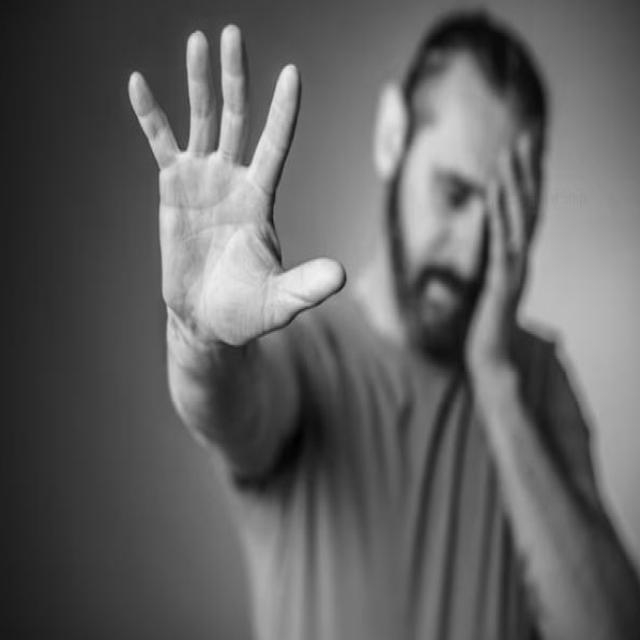stop: (124, 18, 351, 360)
